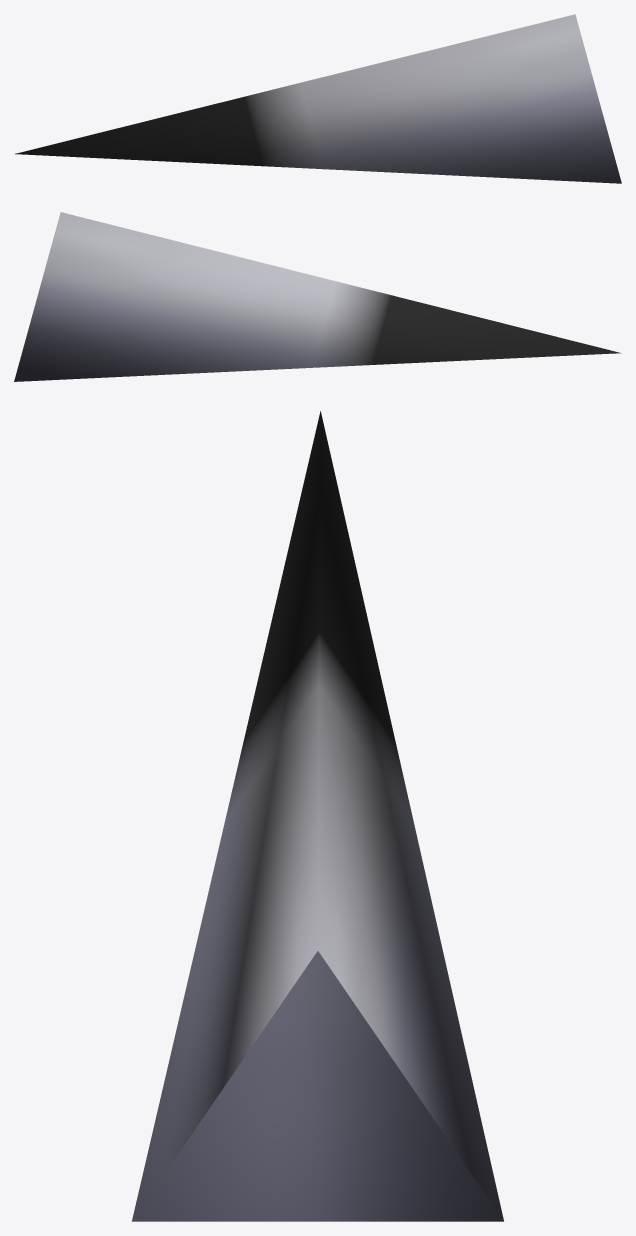
Rendered from shaft_classic_LFr_lod.dae.
3 views of the same model, one above another, from view 1: azimuth 30°, elevation 25°; view 2: azimuth 150°, elevation 25°; view 3: azimuth 270°, elevation 25° (orthographic). The views are drawn at different scales.
Parts seen in each view (by area): view 1: _0_0_node; view 2: _0_0_node; view 3: _0_0_node.
Boxes of the visible parts, <box> form: _0_0_node: <box>15,14,621,183</box>; _0_0_node: <box>14,212,621,381</box>; _0_0_node: <box>132,411,503,1221</box>.
Size of the model in its own units: 4.98 by 1.15 by 1.43.
1 material, 1 textured.
